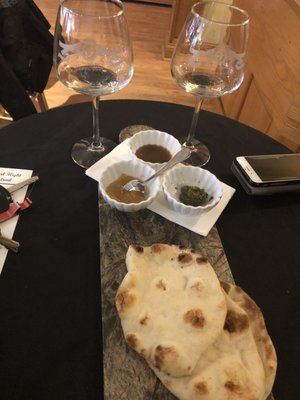sushi: (99, 157, 161, 212), (161, 165, 222, 216)
